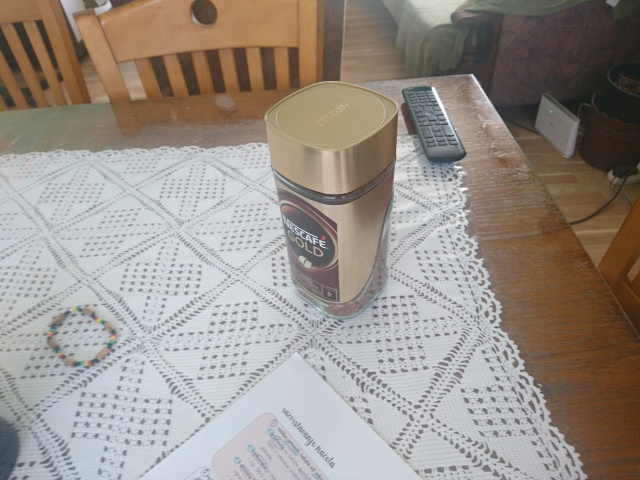Nescafe Gold 225g: (261, 78, 401, 322)
